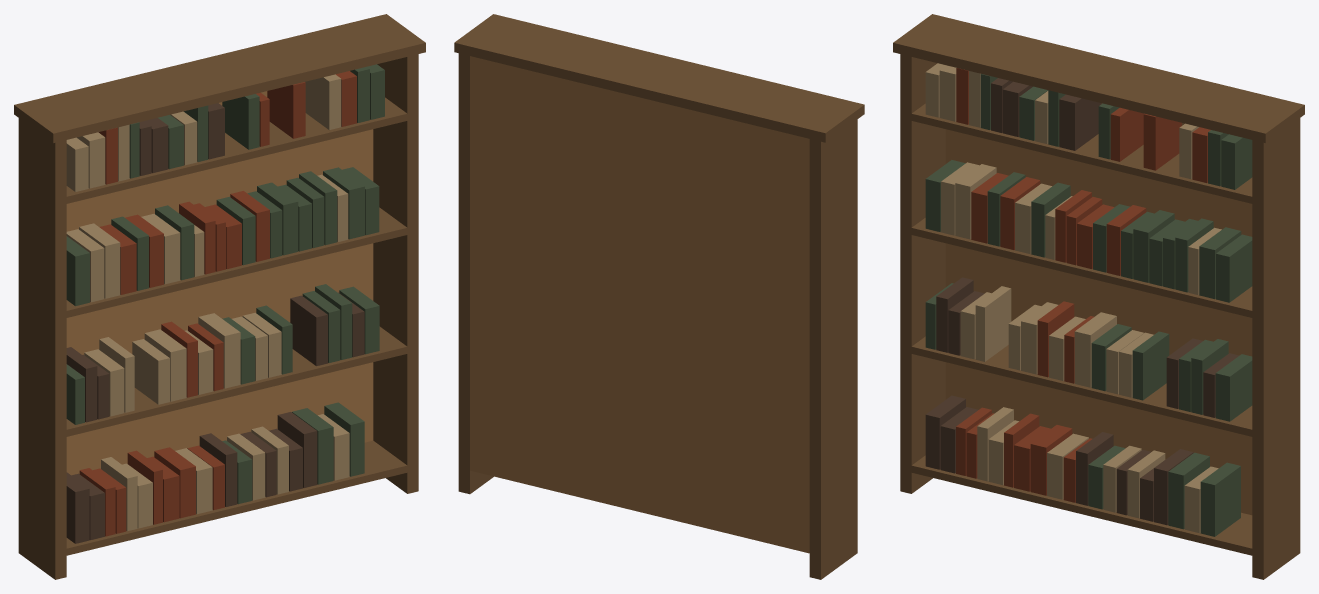
The model's file is Bookshelf.fbx.
3 views of the same model, side by side, from view 1: azimuth 30°, elevation 25°; view 2: azimuth 150°, elevation 25°; view 3: azimuth 330°, elevation 25° (orthographic).
Parts seen in each view (by area): view 1: Bookshelf; view 2: Bookshelf; view 3: Bookshelf.
Part boxes in pixels (left/top/right/bottom): Bookshelf: left=14, top=14, right=425, bottom=579; Bookshelf: left=454, top=14, right=864, bottom=579; Bookshelf: left=893, top=14, right=1304, bottom=579.
Size of the model in its own units: 1.64 by 1.89 by 0.3.
